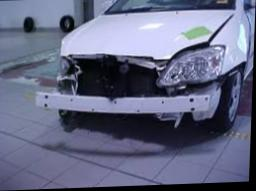Bonnet: (60, 8, 236, 60)
Bumper: (34, 66, 245, 123)
Light: (56, 55, 77, 79)
